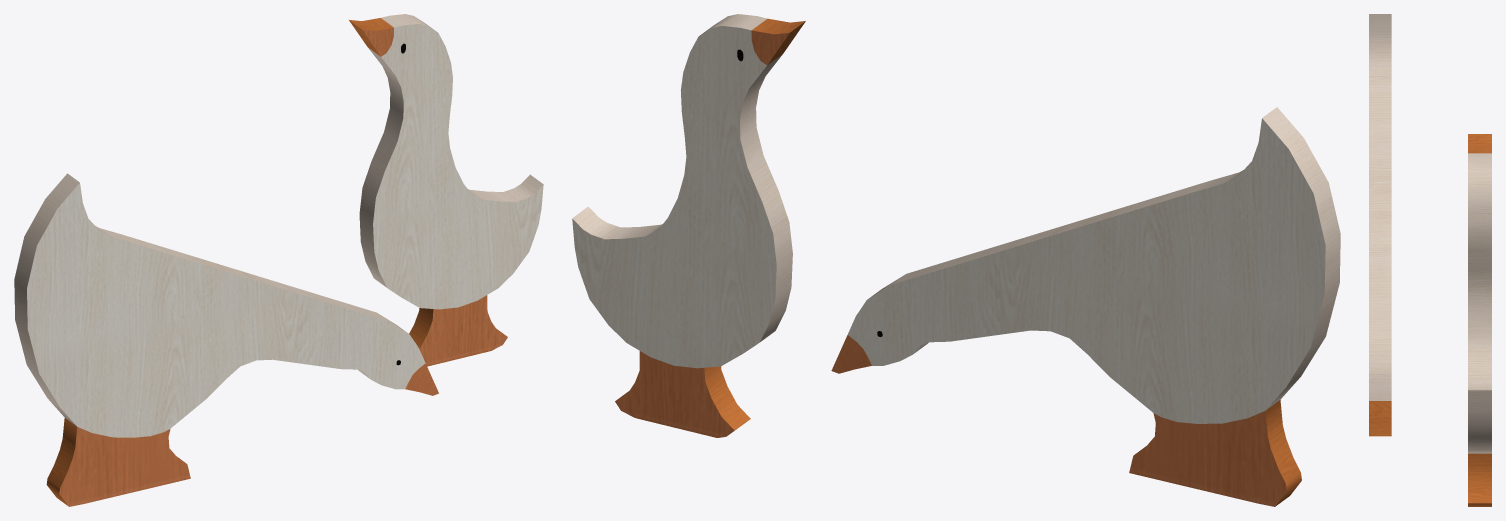
The model's file is Doll_OB_ToyTrainDec_008.FBX.
The picture shows the model from 3 angles, left to right: view 1: azimuth 30°, elevation 25°; view 2: azimuth 150°, elevation 25°; view 3: azimuth 270°, elevation 25°; orthographic projection. The views are drawn at different scales.
Parts seen in each view (by area): view 1: Doll_OB_ToyTrainDec_008; view 2: Doll_OB_ToyTrainDec_008; view 3: Doll_OB_ToyTrainDec_008.
Part boxes in pixels (box(x1,y1,x2,y2)): Doll_OB_ToyTrainDec_008: box(14, 14, 543, 506); Doll_OB_ToyTrainDec_008: box(572, 14, 1340, 506); Doll_OB_ToyTrainDec_008: box(1369, 14, 1491, 506).
Bounding box in the file's own units: 35.49 × 20.94 × 7.41.
